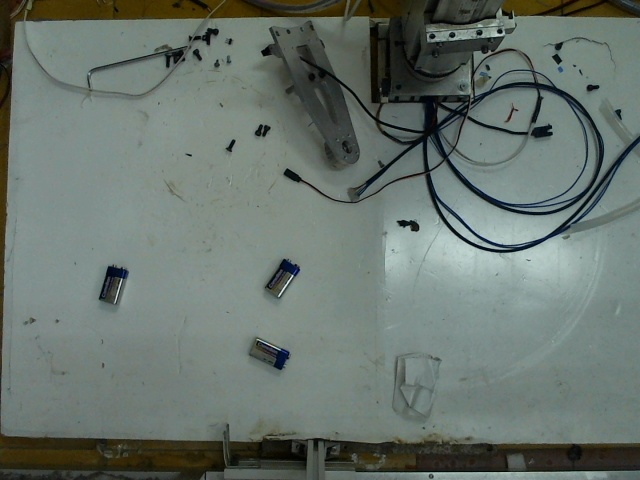battery: (244, 331, 293, 370), (261, 255, 300, 296), (96, 261, 125, 306)
